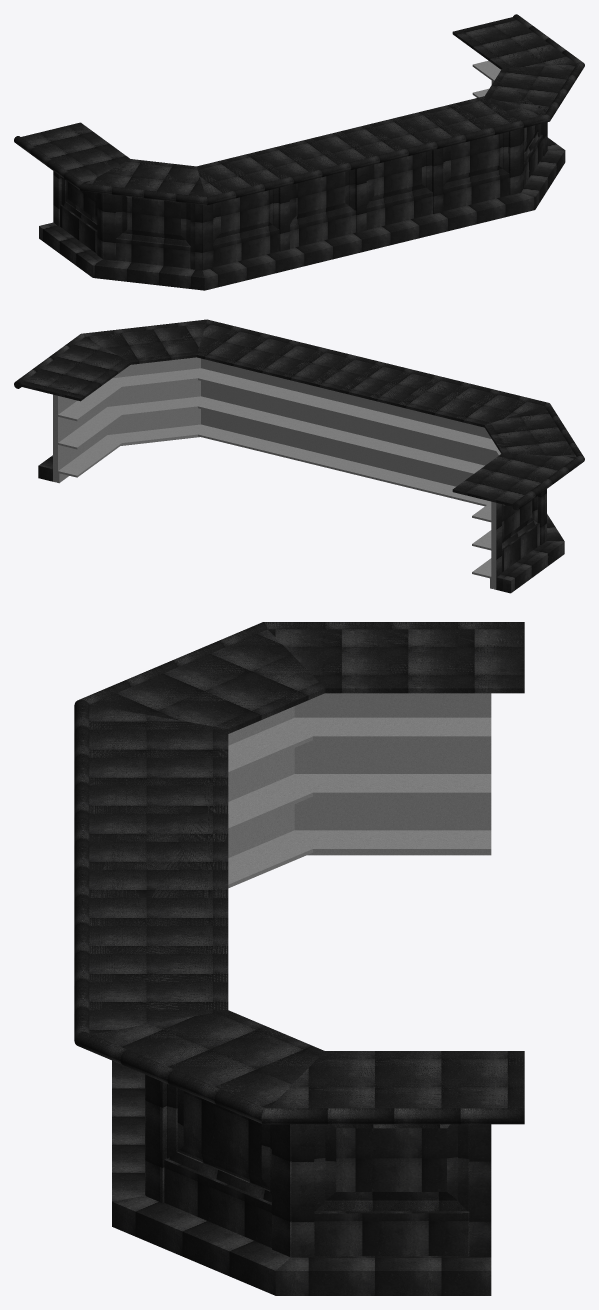
Rendered from Barra.fbx.
The picture shows the model from 3 angles, top to bottom: view 1: azimuth 30°, elevation 25°; view 2: azimuth 150°, elevation 25°; view 3: azimuth 270°, elevation 25°; orthographic projection. The views are drawn at different scales.
Visible parts, largest first — view 1: SketchUp.002_ID29, SketchUp.001_ID16, SketchUp.003_ID37; view 2: SketchUp.003_ID37, SketchUp.001_ID16, SketchUp.002_ID29; view 3: SketchUp.001_ID16, SketchUp.002_ID29, SketchUp.003_ID37.
Boxes of the visible parts, x1,y1,x2,y2 form: SketchUp.002_ID29: (39, 122, 565, 290); SketchUp.001_ID16: (14, 14, 584, 205); SketchUp.003_ID37: (472, 60, 500, 97); SketchUp.003_ID37: (53, 357, 500, 589); SketchUp.001_ID16: (14, 319, 584, 510); SketchUp.002_ID29: (38, 455, 564, 593); SketchUp.001_ID16: (74, 622, 524, 1124); SketchUp.002_ID29: (112, 1060, 491, 1295); SketchUp.003_ID37: (228, 693, 491, 888).
Size of the model in its own units: 536 by 101 by 207.
